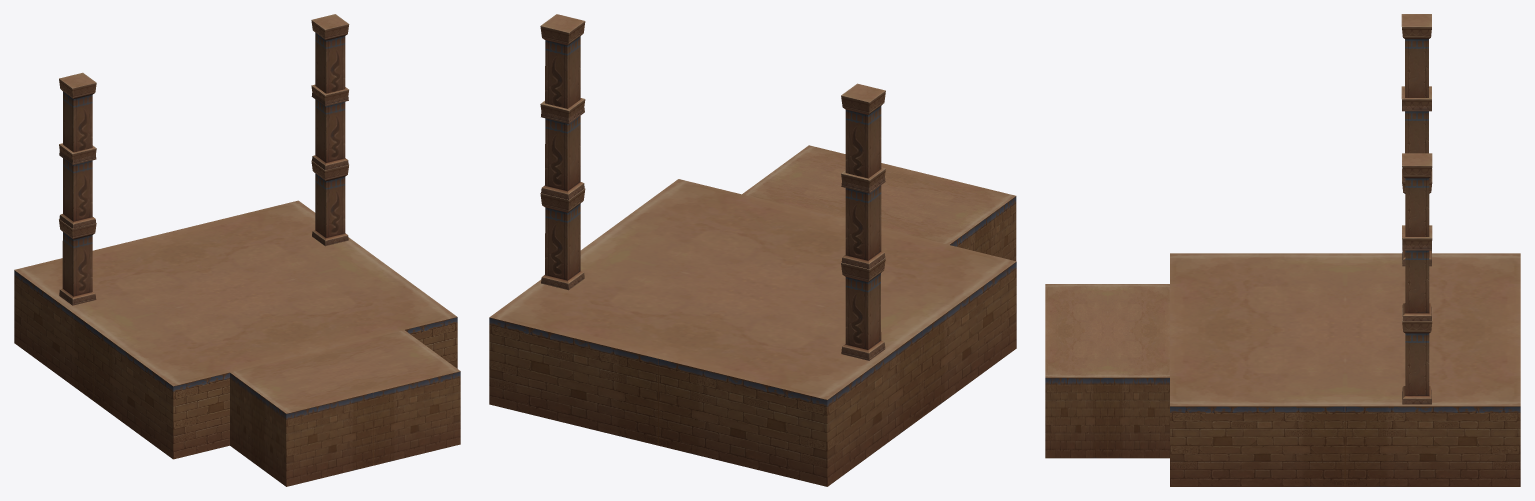
The model's file is Area_05_2.FBX.
The picture shows the model from 3 angles, left to right: view 1: azimuth 30°, elevation 25°; view 2: azimuth 150°, elevation 25°; view 3: azimuth 270°, elevation 25°; orthographic projection. The views are drawn at different scales.
Parts seen in each view (by area): view 1: Area_05_2; view 2: Area_05_2; view 3: Area_05_2.
Boxes of the visible parts, x1,y1,x2,y2 form: Area_05_2: (14,14,460,486); Area_05_2: (489,14,1016,486); Area_05_2: (1045,14,1520,486).
Size of the model in its own units: 3026 by 2977 by 3973.
